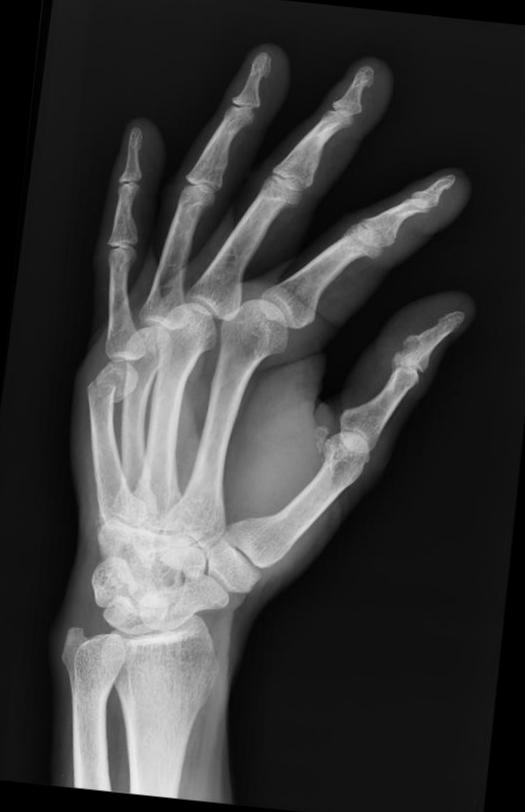fracture: (86, 376, 120, 400)
